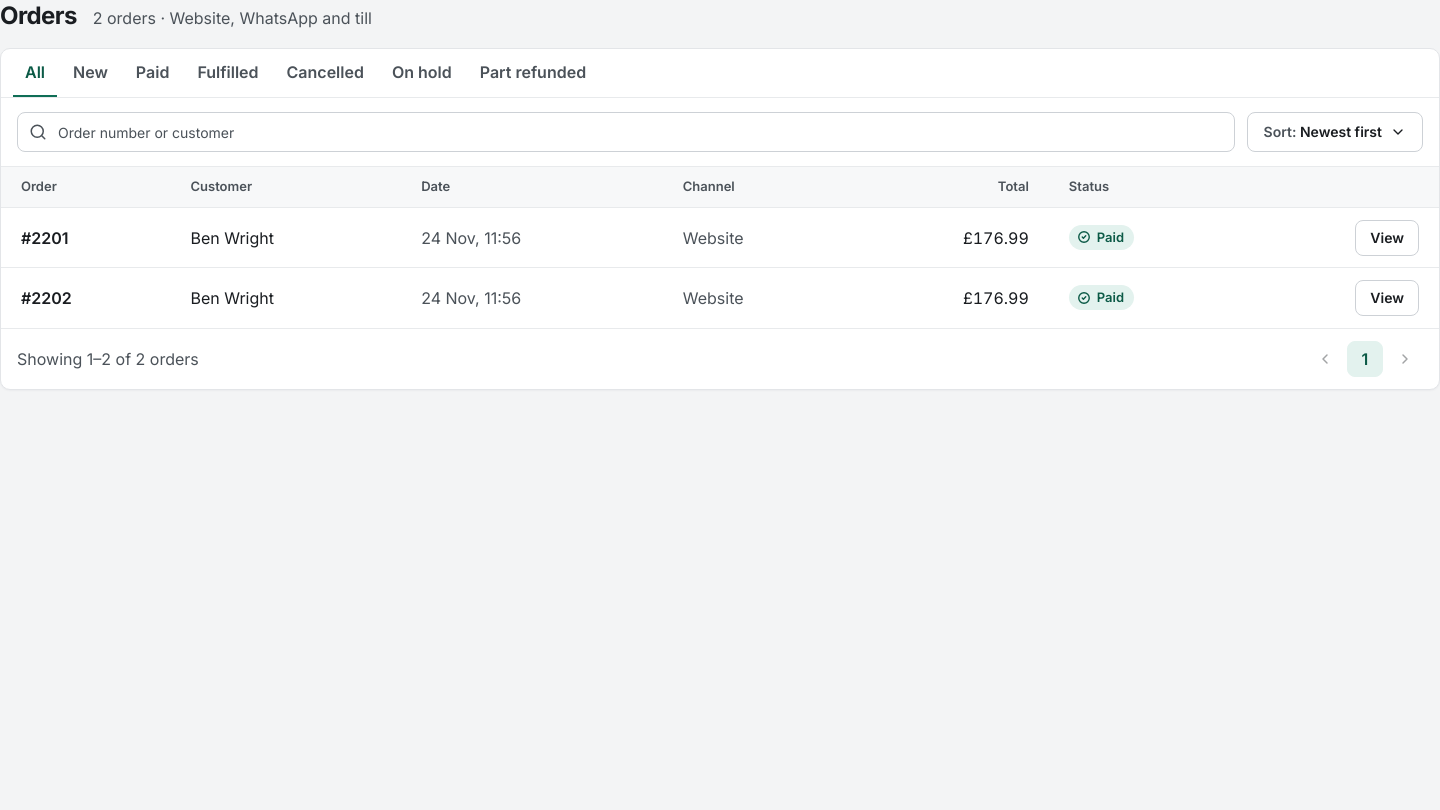
it: Order details › shows the items, quantities, line totals, total, address and note
Click the button with aria-label "View order #2201" at (1387,238), box x1=1355 y1=220 x2=1419 y2=256
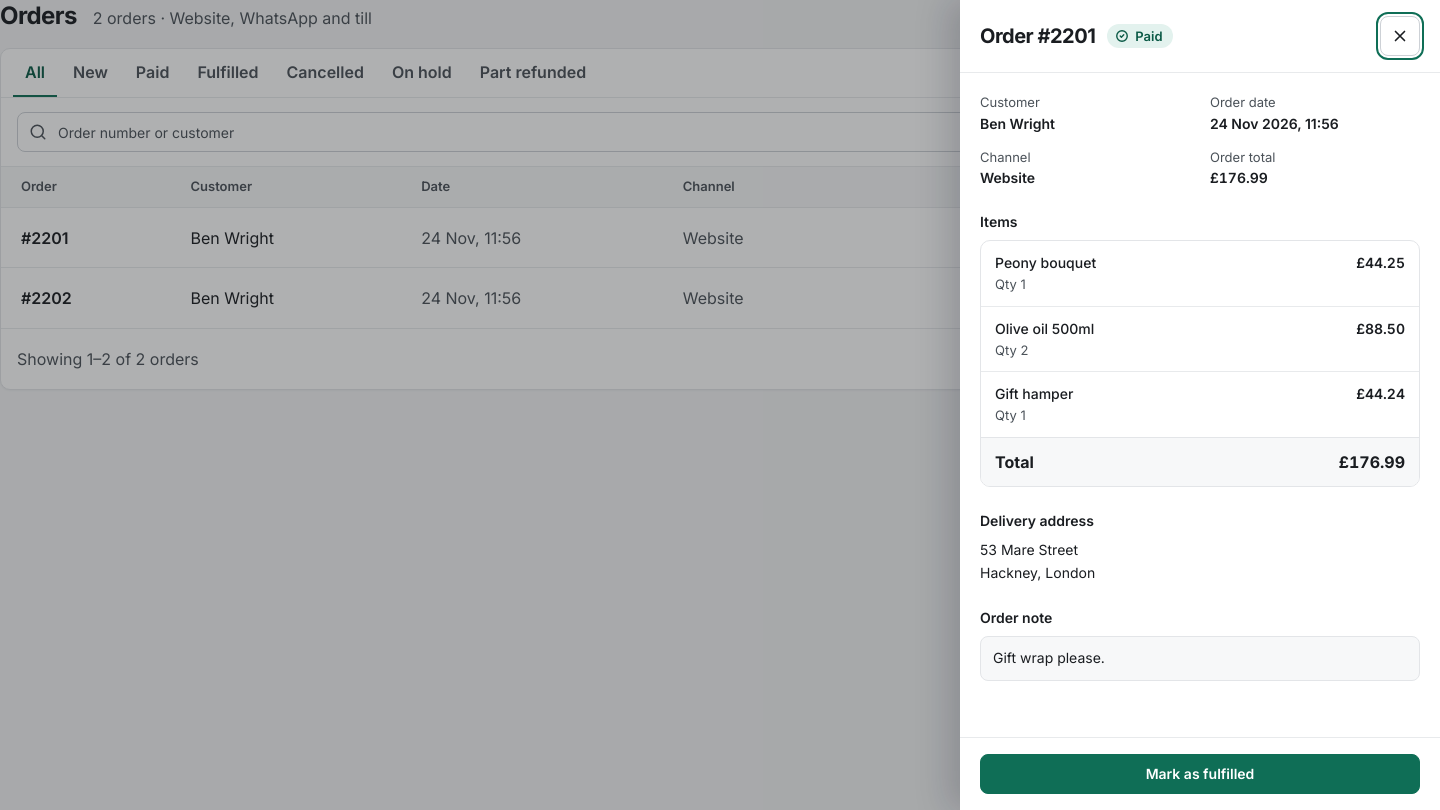
Check: the row "Olive oil 500ml Qty 2 £88.50" is shown, box x1=981 y1=306 x2=1419 y2=372
Check: the row "Total £176.99" is shown, box x1=981 y1=437 x2=1419 y2=486
Check: the text "53 Mare StreetHackney, London" is shown, box x1=980 y1=541 x2=1095 y2=581
